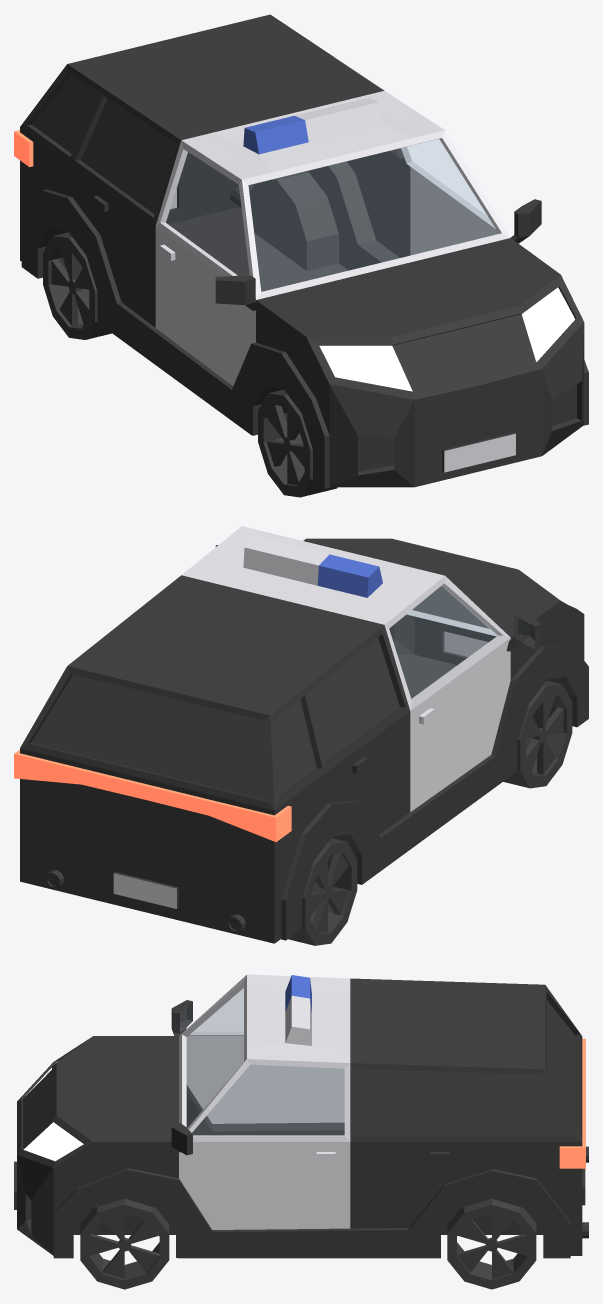
Rendered from police_suv.glb.
The picture shows the model from 3 angles, top to bottom: view 1: azimuth 30°, elevation 25°; view 2: azimuth 150°, elevation 25°; view 3: azimuth 270°, elevation 25°; orthographic projection. The views are drawn at different scales.
Parts seen in each view (by area): view 1: Police SUV, Police SUV wheel front right, Police SUV wheel rear right; view 2: Police SUV, Police SUV wheel rear right, Police SUV wheel front right; view 3: Police SUV, Police SUV wheel front left, Police SUV wheel rear left.
Part boxes in pixels (left/top/right/bottom): Police SUV: left=14, top=14, right=588, bottom=488; Police SUV wheel front right: left=258, top=389, right=337, bottom=497; Police SUV wheel rear right: left=43, top=232, right=111, bottom=339; Police SUV: left=14, top=526, right=588, bottom=943; Police SUV wheel rear right: left=288, top=838, right=357, bottom=945; Police SUV wheel front right: left=503, top=680, right=572, bottom=788; Police SUV: left=14, top=974, right=588, bottom=1258; Police SUV wheel front left: left=80, top=1199, right=169, bottom=1289; Police SUV wheel rear left: left=447, top=1199, right=536, bottom=1289.
Bounding box in the file's own units: 2.81 × 2.26 × 5.04.
